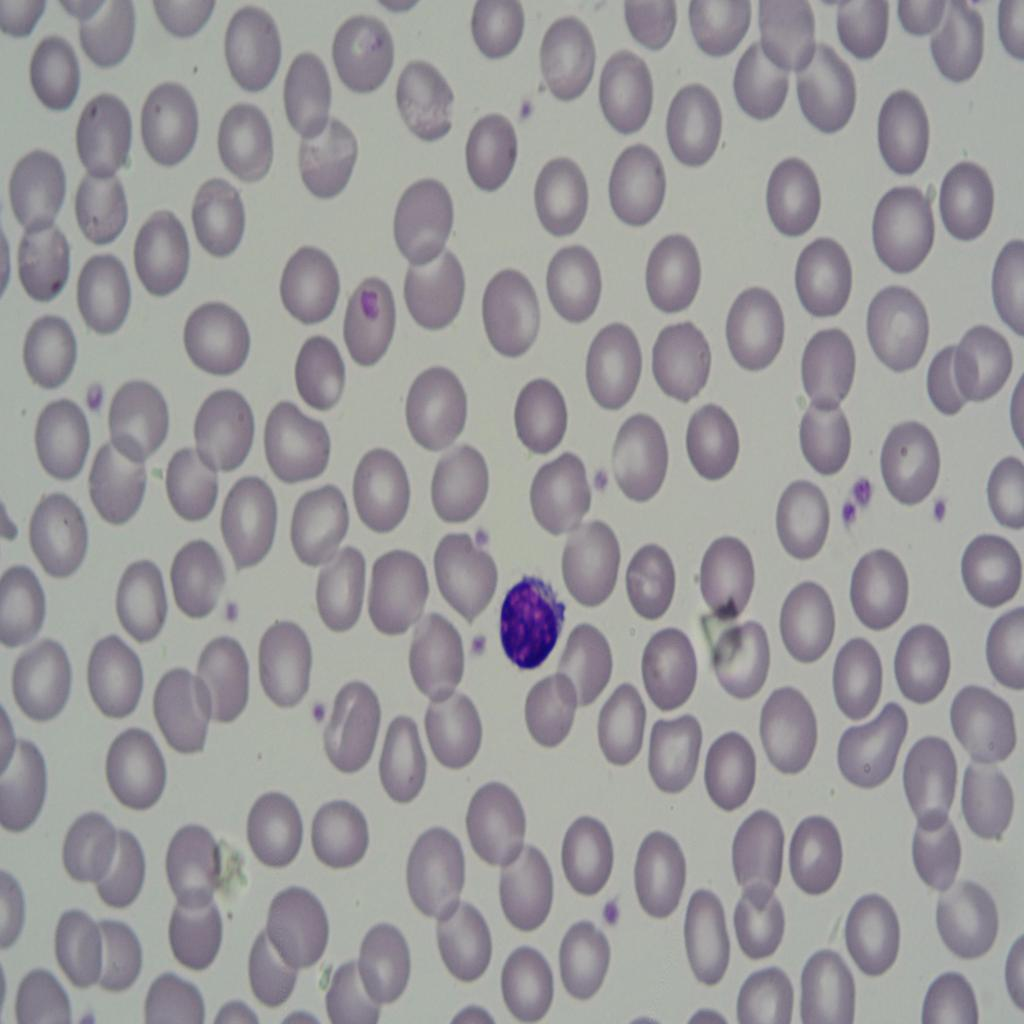Eritrosit: (215, 0, 288, 104), (271, 230, 345, 330), (470, 257, 544, 355), (502, 364, 576, 462), (730, 39, 798, 144), (842, 878, 908, 986), (754, 681, 824, 782), (260, 395, 336, 488), (761, 150, 833, 248), (11, 629, 82, 728), (22, 385, 94, 482), (761, 472, 836, 564), (722, 278, 788, 382), (290, 107, 360, 205), (369, 708, 432, 815), (781, 804, 849, 903), (867, 276, 934, 376), (220, 466, 283, 572), (465, 771, 531, 872), (840, 695, 910, 790), (678, 882, 736, 996), (347, 442, 418, 535), (139, 71, 202, 175), (392, 47, 455, 151), (402, 356, 468, 454), (938, 146, 999, 252), (426, 440, 498, 529), (648, 316, 718, 407), (211, 91, 278, 186), (527, 442, 590, 543), (403, 237, 467, 336), (611, 409, 673, 511), (403, 607, 465, 709), (96, 720, 166, 810), (605, 140, 672, 234), (559, 510, 621, 611), (537, 229, 604, 322), (240, 777, 304, 874), (581, 314, 645, 411), (948, 670, 1014, 764), (871, 180, 934, 278), (184, 174, 251, 266), (633, 820, 691, 926), (369, 540, 435, 633), (337, 7, 400, 104), (876, 74, 933, 181), (270, 40, 332, 138), (526, 145, 588, 243), (186, 388, 256, 474), (163, 527, 225, 624), (666, 76, 726, 176), (794, 949, 874, 1024), (33, 488, 93, 587), (91, 440, 157, 530), (880, 410, 943, 504), (70, 153, 128, 255), (541, 6, 595, 115), (258, 613, 316, 714), (78, 911, 146, 997), (594, 44, 658, 135), (800, 44, 857, 146), (72, 92, 135, 184), (86, 627, 149, 719), (410, 815, 464, 922), (896, 613, 954, 712), (264, 890, 334, 972), (431, 896, 494, 987), (314, 537, 370, 639), (708, 619, 776, 703), (110, 558, 172, 650), (130, 205, 188, 303), (392, 169, 453, 262), (635, 620, 698, 710), (20, 310, 82, 400), (289, 480, 353, 567), (960, 524, 1024, 611), (555, 812, 616, 903), (523, 662, 579, 761), (194, 635, 252, 730), (554, 908, 612, 1003), (597, 663, 648, 771), (700, 725, 761, 815), (0, 739, 53, 842), (327, 672, 381, 772), (751, 0, 821, 77), (183, 301, 252, 379), (310, 793, 374, 877), (648, 229, 707, 320), (681, 401, 742, 489), (161, 823, 224, 907), (431, 680, 486, 776), (734, 877, 792, 968), (150, 666, 206, 760), (498, 837, 552, 934), (688, 542, 756, 619), (496, 932, 554, 1022), (26, 25, 82, 118), (47, 907, 108, 992), (777, 573, 835, 662), (462, 100, 518, 192), (906, 730, 954, 837), (797, 232, 856, 319), (853, 542, 909, 633), (685, 0, 755, 72), (732, 807, 782, 907), (20, 216, 76, 305), (826, 630, 882, 719), (796, 388, 853, 474), (646, 710, 704, 794), (5, 153, 69, 229), (110, 379, 170, 459), (946, 872, 996, 968), (80, 250, 132, 342), (802, 325, 861, 406), (554, 626, 610, 710), (911, 812, 962, 902), (952, 324, 1010, 402), (168, 436, 218, 526), (0, 562, 51, 649), (626, 537, 680, 619), (170, 888, 222, 973), (248, 919, 296, 1011), (292, 338, 350, 414), (979, 608, 1024, 704), (97, 828, 146, 916), (10, 962, 75, 1024), (361, 926, 412, 1002), (968, 764, 1012, 850), (324, 958, 380, 1024), (931, 342, 975, 424), (470, 0, 526, 64), (60, 812, 114, 878), (986, 448, 1024, 529)
Myeoblast: (490, 557, 566, 681)
Platelet: (78, 377, 112, 420), (583, 459, 611, 507), (458, 516, 491, 553), (508, 84, 538, 124), (851, 462, 877, 504), (359, 281, 385, 320), (931, 490, 956, 530), (220, 589, 240, 630), (601, 891, 622, 930), (468, 627, 488, 666), (305, 694, 328, 726), (838, 496, 857, 530)
